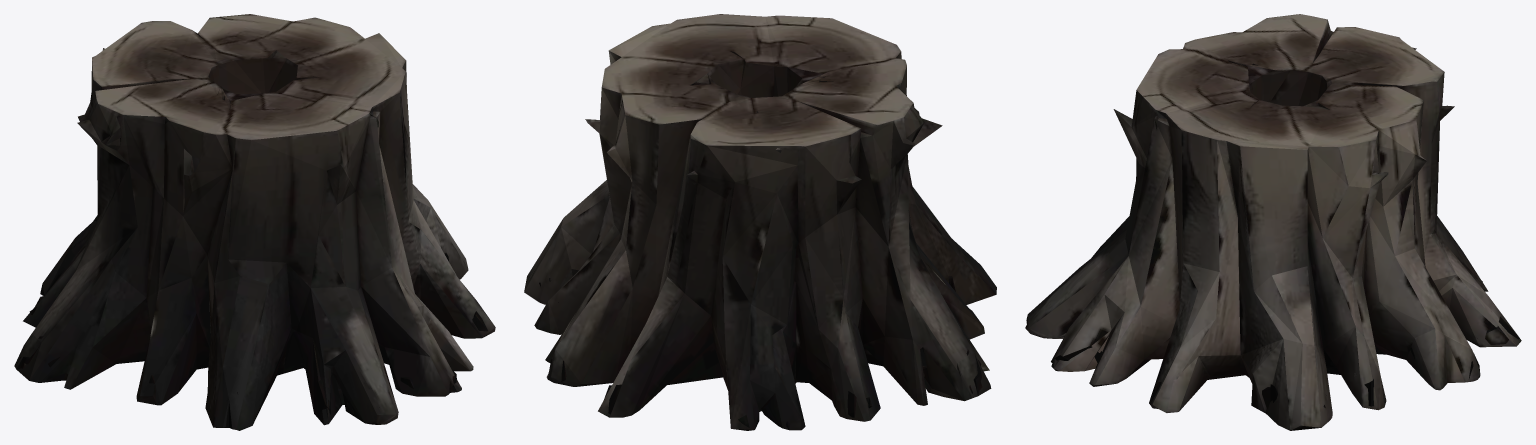
File: char_stump_01.glb
The picture shows the model from 3 angles, left to right: view 1: azimuth 30°, elevation 25°; view 2: azimuth 150°, elevation 25°; view 3: azimuth 270°, elevation 25°; orthographic projection. The views are drawn at different scales.
Parts seen in each view (by area): view 1: geometry_0; view 2: geometry_0; view 3: geometry_0.
Part boxes in pixels (x1,y1,x2,y2): geometry_0: [14, 14, 495, 430]; geometry_0: [524, 14, 996, 430]; geometry_0: [1025, 14, 1521, 430].
Size of the model in its own units: 0.9964 by 0.5425 by 0.9927.
1 material, 1 textured.
